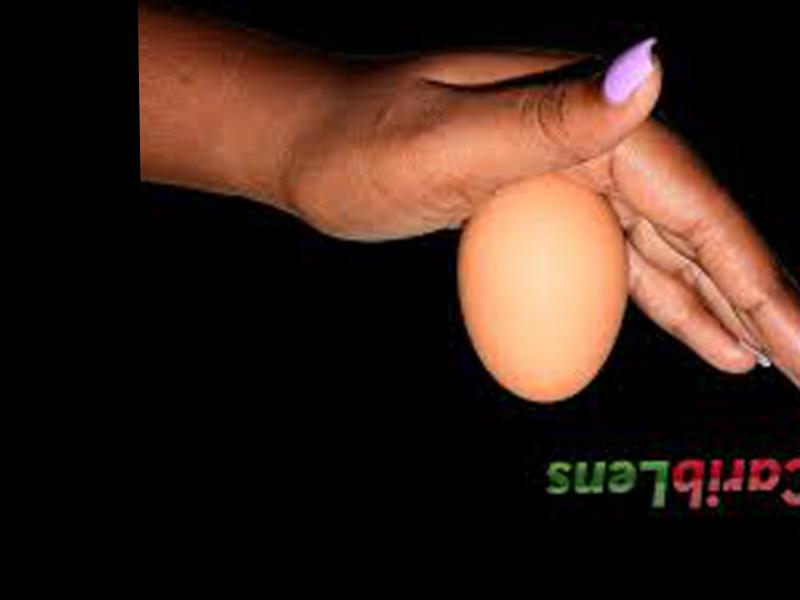Eggs: (455, 176, 631, 404)
